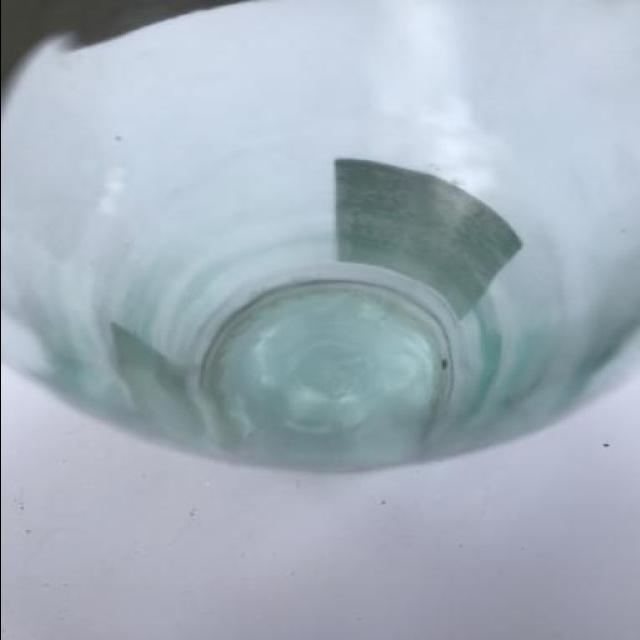litter: (1, 3, 636, 475)
